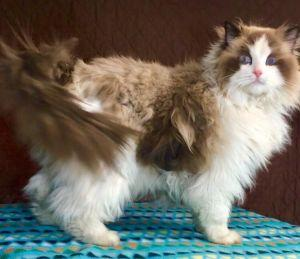ragdoll: (208, 14, 300, 104)
